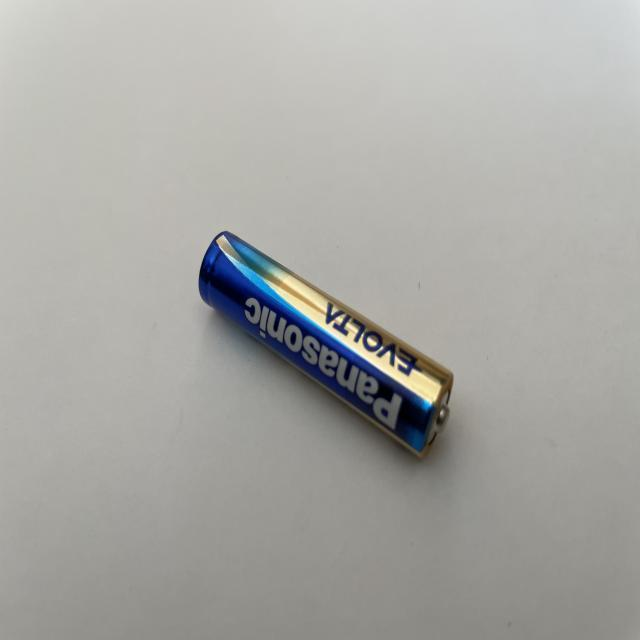Hazard: (197, 228, 458, 462)
